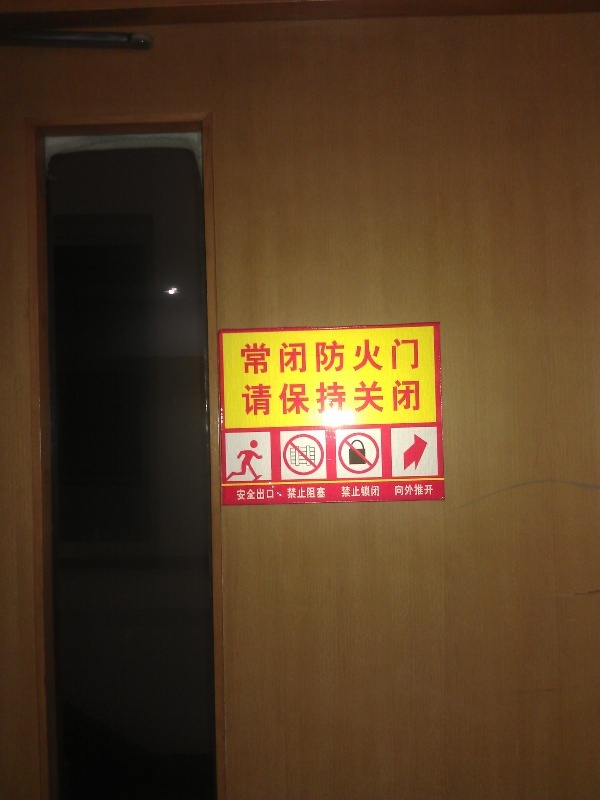text: (241, 338, 256, 375), (257, 338, 272, 375), (273, 338, 288, 375), (289, 338, 304, 375), (305, 338, 320, 375), (321, 338, 336, 375), (337, 338, 352, 375), (353, 338, 368, 375), (369, 338, 384, 375), (385, 338, 400, 375), (401, 338, 416, 375), (241, 380, 256, 416), (257, 380, 272, 416), (273, 380, 288, 416), (289, 380, 304, 416), (305, 380, 320, 416), (321, 380, 336, 416), (337, 380, 352, 416), (353, 380, 368, 416), (369, 380, 384, 416), (385, 380, 400, 416), (401, 380, 416, 416), (241, 487, 256, 502), (257, 487, 272, 502), (289, 486, 304, 501), (305, 486, 320, 501), (417, 380, 423, 416), (353, 485, 368, 499), (401, 484, 416, 497), (417, 484, 432, 497), (417, 338, 422, 375), (340, 485, 352, 499), (369, 485, 380, 499), (321, 486, 326, 501), (395, 484, 400, 497), (236, 487, 240, 502), (273, 487, 276, 502), (287, 486, 288, 501), (433, 484, 434, 497)
